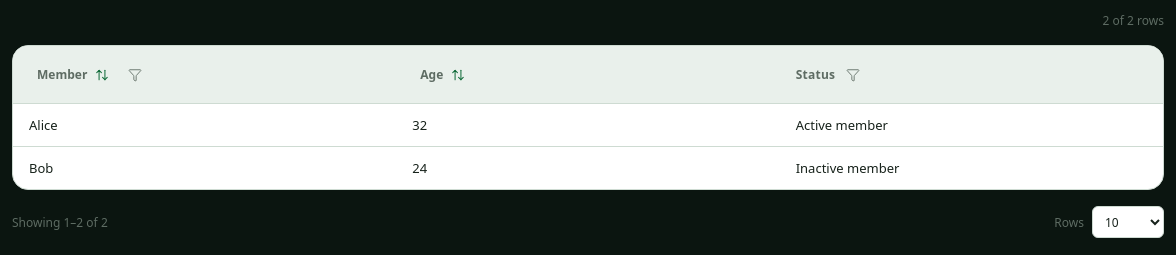
DataTable › filters limited status values from a header select
Click the button named "Open filter for Status" at (853, 74), box [839,60,867,88]
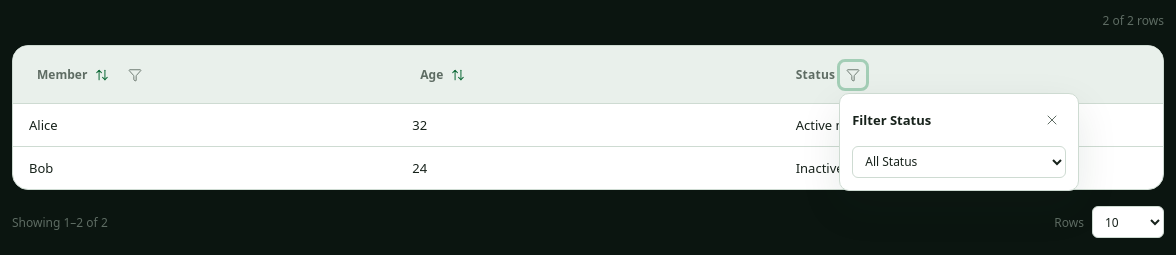
Select "Inactive" in the dropdown named "Filter Status" at (959, 162), box [852,146,1066,178]
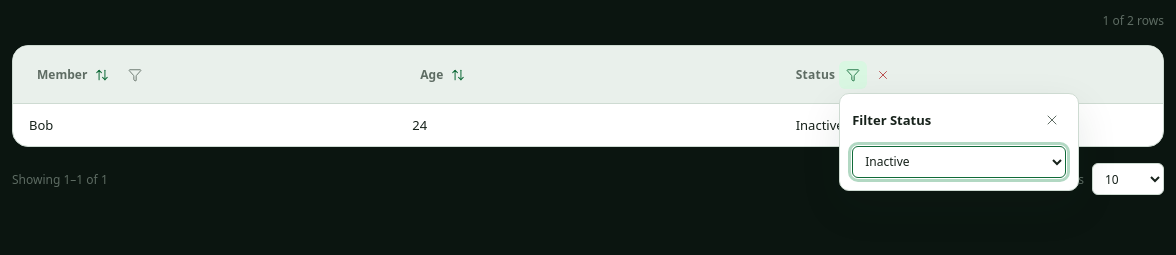
Check: the text "Bob" is shown, box [13,104,396,146]
Check: the text "Alice" is gone
